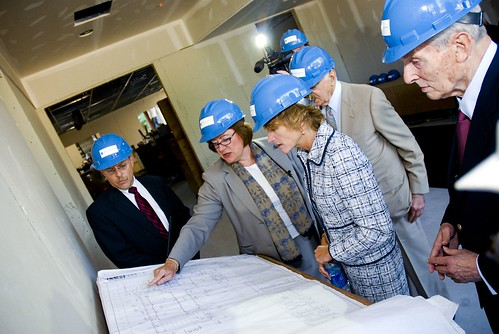person hardhat: (381, 1, 486, 101), (251, 74, 315, 154), (199, 99, 246, 164), (289, 48, 337, 106), (89, 134, 135, 190)
